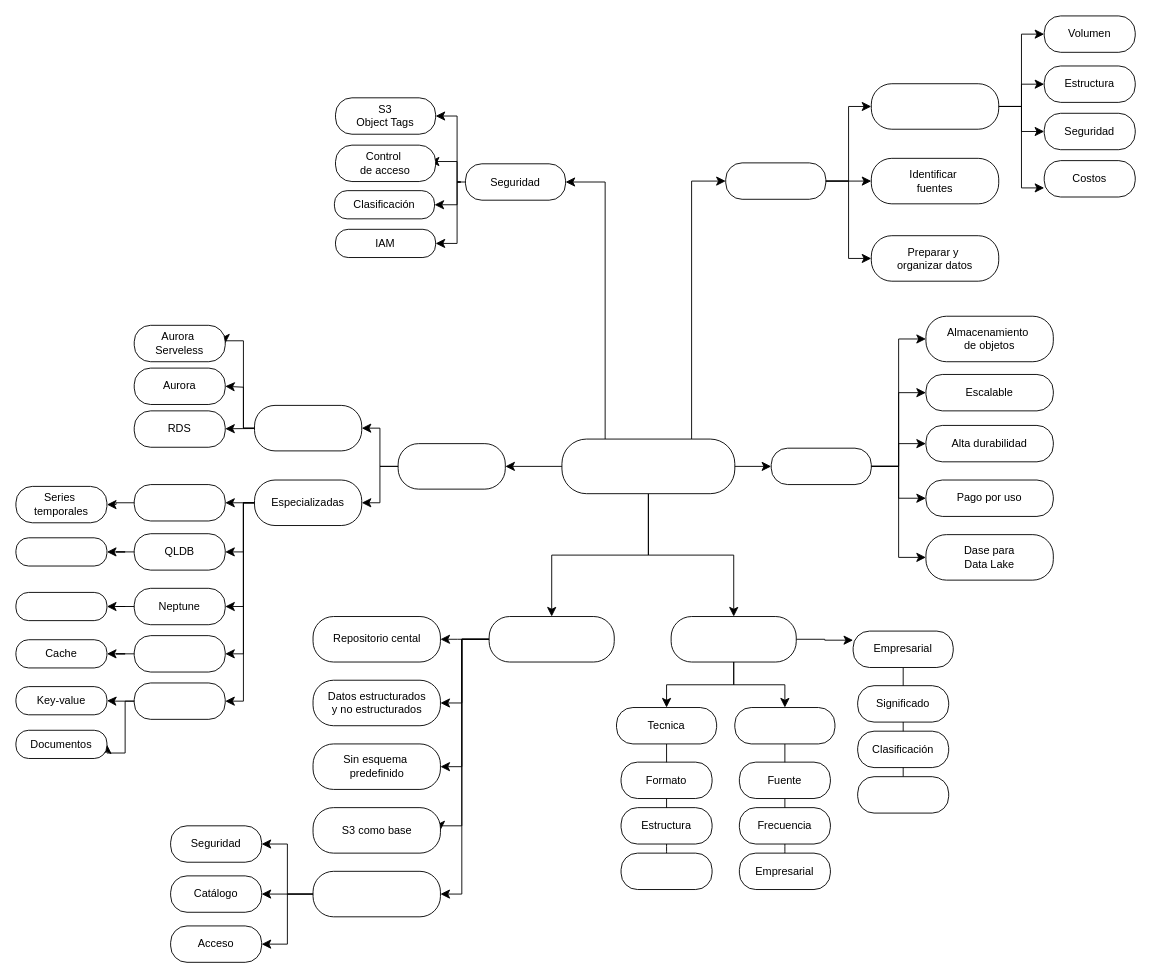
The diagram is 1151 pixels wide and 978 high, and some of its shapes have lost their labels. Here are the shapes that lost their labels. From the top down, the centre of each, then its label:
pixel 934 106: Consideraciones
pixel 775 180: Objetivos
pixel 308 427: Relacionales
pixel 451 466: Bases de datos
pixel 648 466: Montaje de datos
pixel 820 466: Amazon S3
pixel 179 502: Timestream
pixel 61 551: Ledger
pixel 61 606: Grafos
pixel 179 653: ElastiCache
pixel 551 639: Data Lake
pixel 733 639: Clasificación de datos
pixel 179 700: DynamoDB
pixel 784 725: Operativa
pixel 903 794: PII / PHI
pixel 666 871: Tamaño
pixel 376 893: AWS Lake Formation
